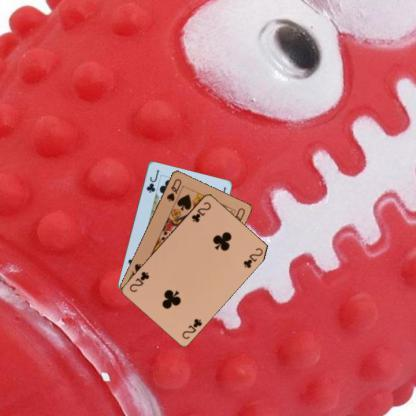2c: (189, 198, 212, 223), (180, 316, 203, 340)
Jc: (144, 168, 160, 194)
Qs: (164, 176, 182, 202)
